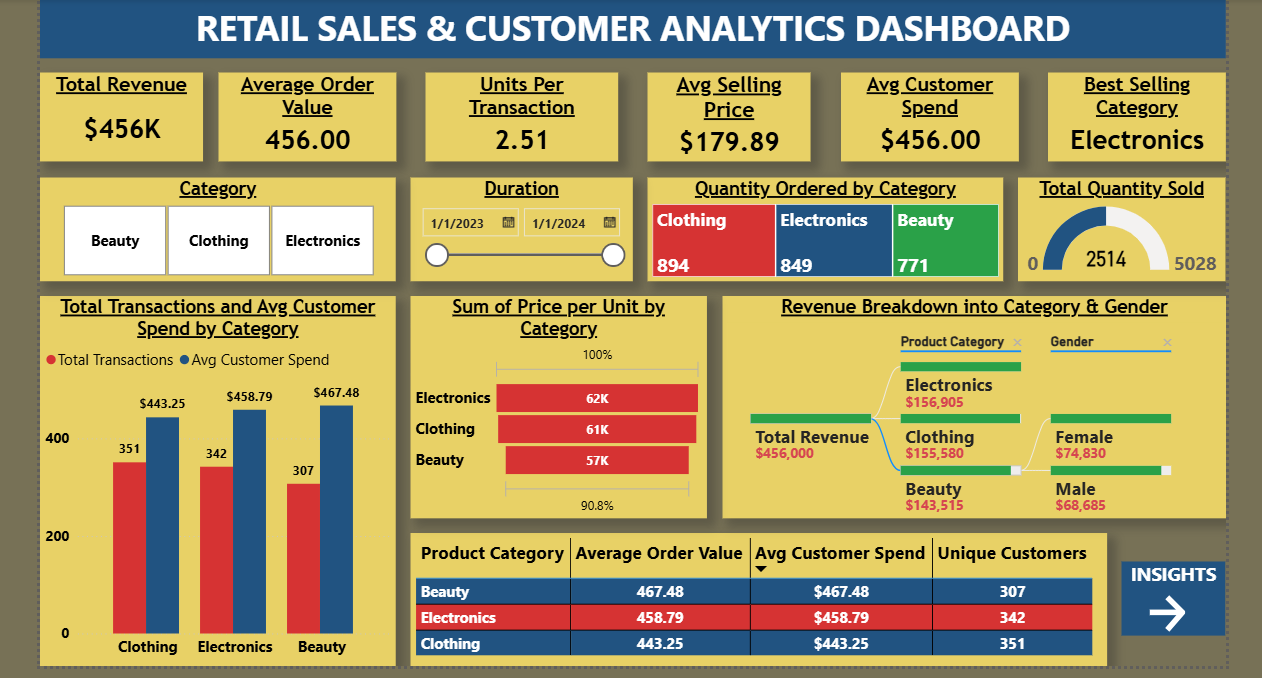

The dashboard page shown, as its layout file describes it:
{"tool":"powerbi","page":{"name":"DASHBOARD","canvas":[1280,720],"ordinal":0},"visuals":[{"type":"textbox","box":[0,0,1280,64],"z":0},{"type":"card","title":"Total Revenue","fields":{"Values":["retail_sales_dataset.Total Revenue"]},"box":[0,80,176,96],"z":1000},{"type":"card","title":"Average Order Value","fields":{"Values":["retail_sales_dataset.Average Order Value"]},"box":[192,80,192,96],"z":2000},{"type":"card","title":"Avg Selling Price","fields":{"Values":["retail_sales_dataset.Avg Selling Price"]},"box":[656,80,176,96],"z":3000},{"type":"card","title":"Avg Customer Spend","fields":{"Values":["retail_sales_dataset.Avg Customer Spend"]},"box":[864,80,192,96],"z":4000},{"type":"card","title":"Best Selling Category","fields":{"Values":["retail_sales_dataset.Best Selling Category"]},"box":[1088,80,192,96],"z":5000},{"type":"card","title":"Units Per Transaction","fields":{"Values":["retail_sales_dataset.Units per Transaction"]},"box":[416,80,208,96],"z":6000},{"type":"clusteredColumnChart","title":"Total Transactions and Avg Customer Spend by Category","fields":{"Category":["retail_sales_dataset.Product Category"],"Y":["retail_sales_dataset.Total Transactions","retail_sales_dataset.Avg Customer Spend"]},"box":[0,320,384,400],"z":7000},{"type":"tableEx","fields":{"Values":["retail_sales_dataset.Product Category","retail_sales_dataset.Average Order Value","retail_sales_dataset.Avg Customer Spend","retail_sales_dataset.Unique Customers"]},"box":[400,576,752,144],"z":8000},{"type":"treemap","title":"Quantity Ordered by Category","fields":{"Values":["Sum(retail_sales_dataset.Quantity)"],"Details":["retail_sales_dataset.Product Category"]},"box":[656,192,384,112],"z":9000},{"type":"decompositionTreeVisual","title":"Revenue Breakdown into Category & Gender","fields":{"Analyze":["retail_sales_dataset.Total Revenue"],"ExplainBy":["retail_sales_dataset.Product Category","retail_sales_dataset.Gender"]},"box":[736,320,544,240],"z":10000},{"type":"slicer","title":"Duration","fields":{"Values":["retail_sales_dataset.Date"]},"box":[400,192,240,112],"z":11000},{"type":"gauge","fields":{"Y":["retail_sales_dataset.Total Quantity Sold"]},"box":[1056,192,224,112],"z":12000},{"type":"funnel","title":"Sum of Price per Unit by Category","fields":{"Category":["retail_sales_dataset.Product Category"],"Y":["Sum(retail_sales_dataset.Price per Unit)"]},"box":[400,320,320,240],"z":13000},{"type":"slicer","title":"Category","fields":{"Values":["retail_sales_dataset.Product Category"]},"box":[0,192,384,112],"z":14000},{"type":"textbox","box":[1168,608,112,80],"z":15000},{"type":"actionButton","title":"INSIGHTS","box":[1168,608,112,80],"z":16000}]}

Visuals, with their boxes in screenshot pixels (x1, y1, x2, y2):
textbox: box(36, 13, 1223, 72)
"Total Revenue" card: box(36, 87, 199, 176)
"Average Order Value" card: box(214, 87, 392, 176)
"Avg Selling Price" card: box(644, 87, 808, 176)
"Avg Customer Spend" card: box(837, 87, 1015, 176)
"Best Selling Category" card: box(1045, 87, 1223, 176)
"Units Per Transaction" card: box(422, 87, 615, 176)
"Total Transactions and Avg Customer Spend by Category" clusteredColumnChart: box(36, 310, 392, 677)
tableEx - retail_sales_dataset.Product Category x retail_sales_dataset.Average Order Value: box(407, 547, 1104, 677)
"Quantity Ordered by Category" treemap: box(644, 191, 1001, 295)
"Revenue Breakdown into Category & Gender" decompositionTreeVisual: box(719, 310, 1223, 532)
"Duration" slicer: box(407, 191, 630, 295)
gauge - retail_sales_dataset.Total Quantity Sold: box(1015, 191, 1223, 295)
"Sum of Price per Unit by Category" funnel: box(407, 310, 704, 532)
"Category" slicer: box(36, 191, 392, 295)
textbox: box(1119, 577, 1223, 651)
"INSIGHTS" actionButton: box(1119, 577, 1223, 651)
